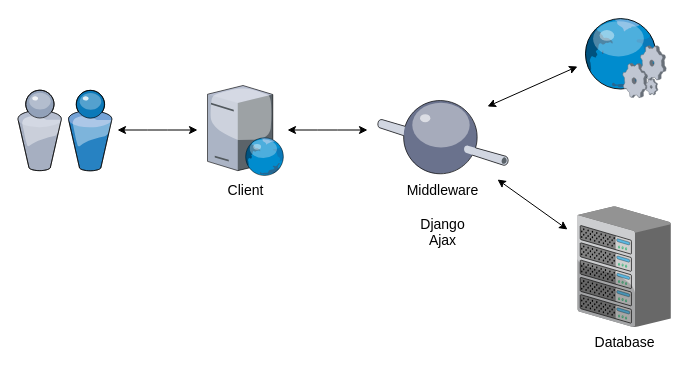
Some shapes in this 688 by 368 pixel diagram are drawn without their labels. Each missing label, with the box of its shape:
Spotify API: (582, 17, 666, 97)
User: (17, 90, 112, 170)
